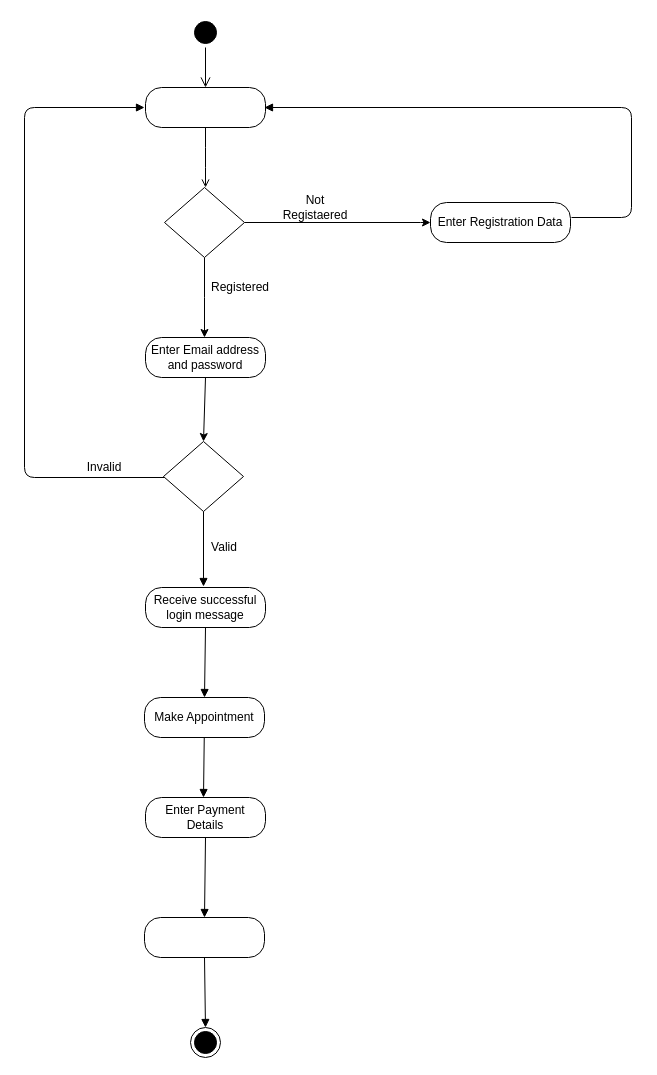
This 657x1075 diagram has some shape labels left out. Each missing label, with the centre of its shape:
Make Payment: point (204, 937)
Visit Login / Registration Page: point (205, 107)
